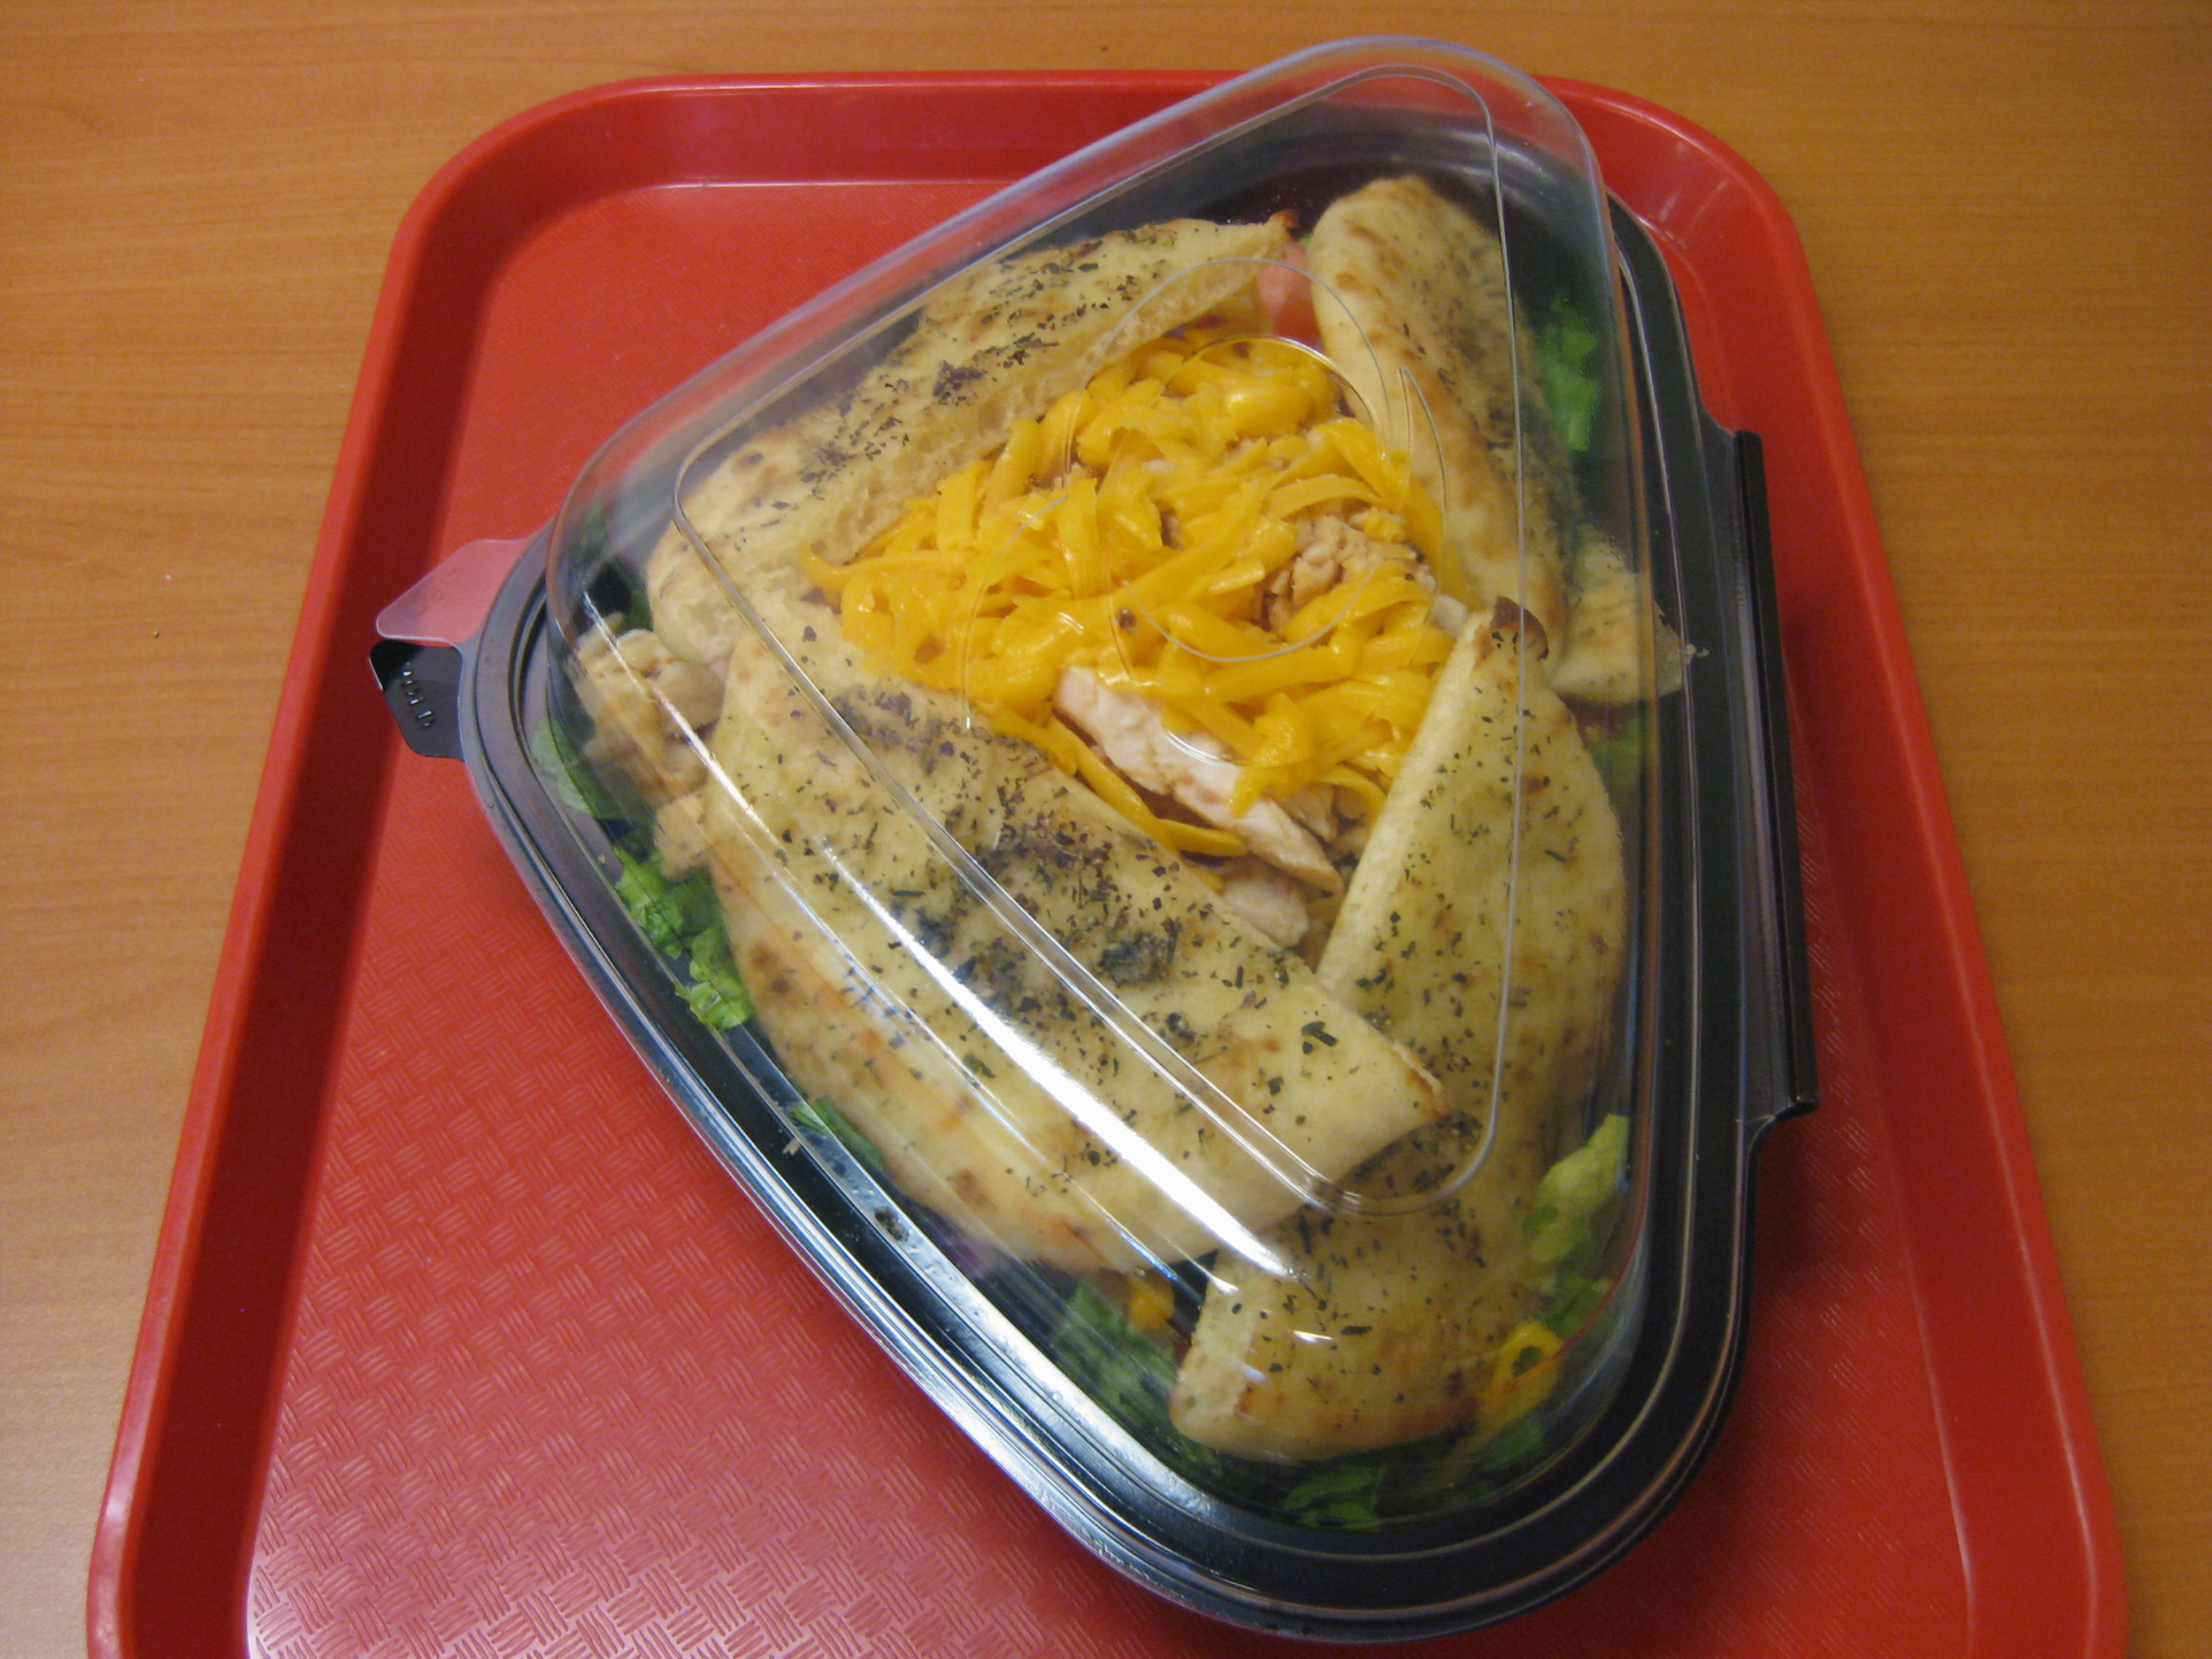salad: (600, 151, 1636, 1497)
